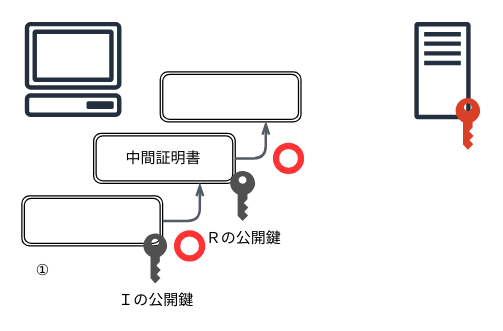
The diagram is 503 pixels wide and 331 high, and some of its shapes have lost their labels. Here are the shapes that lost their labels. From the top down, the centre of each, then its label:
At (230,96): "ルート証明書".
At (92,220): "サーバー証明書".
